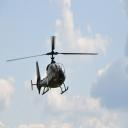helicopter: (10, 37, 99, 95)
